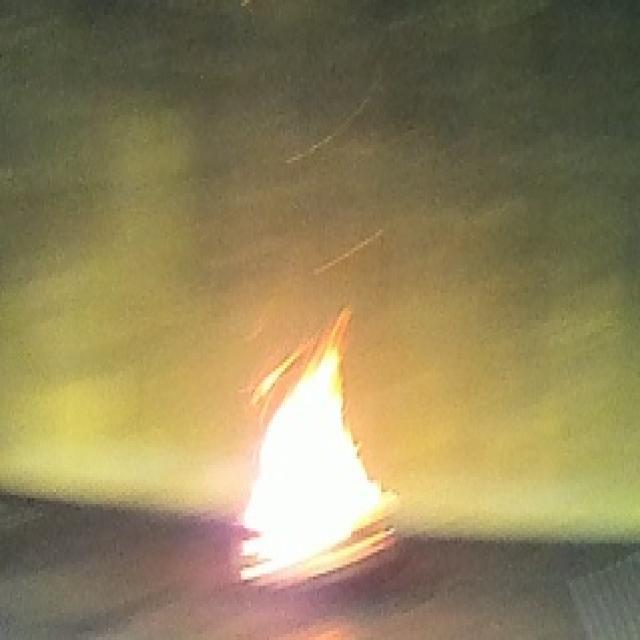Fire: (238, 304, 402, 590)
